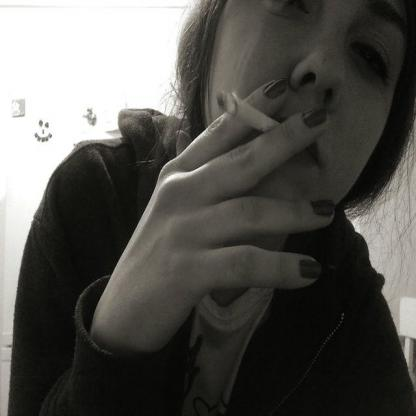smoking: (217, 91, 290, 140)
